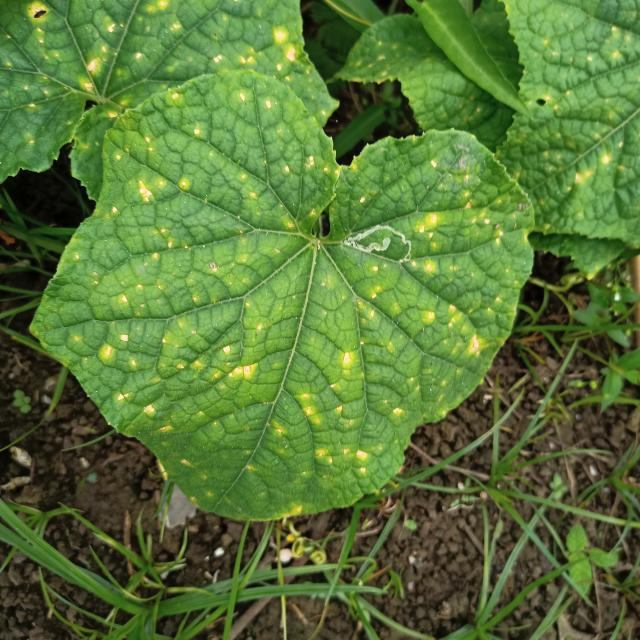disease_cucumber: (62, 85, 513, 501), (67, 2, 306, 120)
